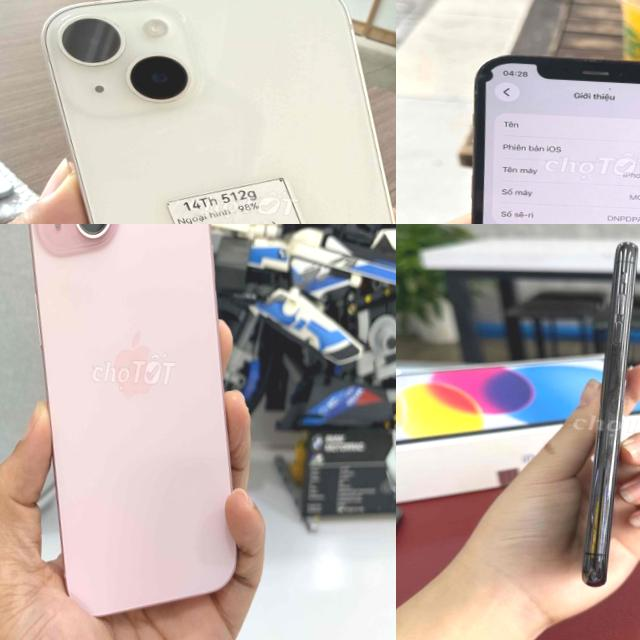screen_defect: (472, 56, 524, 106)
